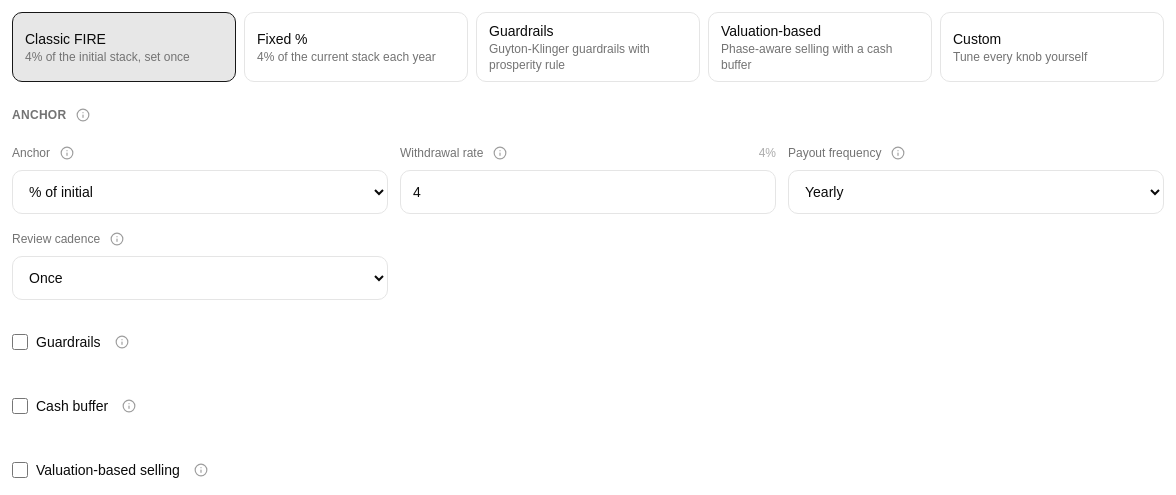
Scenario: WithdrawalTab › marks the preset label dirty after a knob edit
Replace the text in the number field named "Withdrawal rate value" with "5": x=588, y=192 [400,170,776,214]
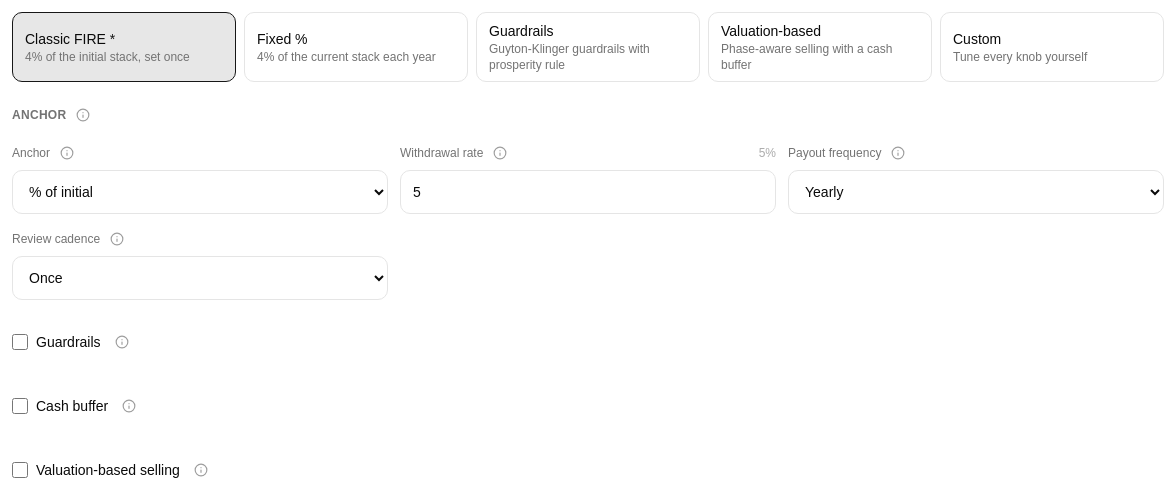
Check: the text named "modified" is shown, box [110,31,115,47]
